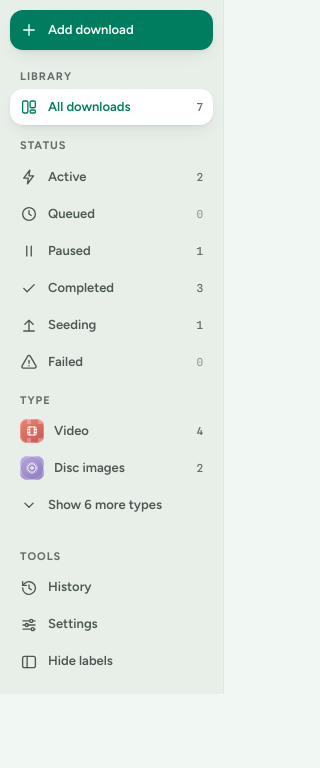
it: Rail, expanded › folds away empty types until asked
Expected: the text "Video" is shown, [54,423,89,438]
Expected: the text "Audio" is not shown
Click the button "Show 6 more types".
click(112, 505)  # box [10,487,213,523]
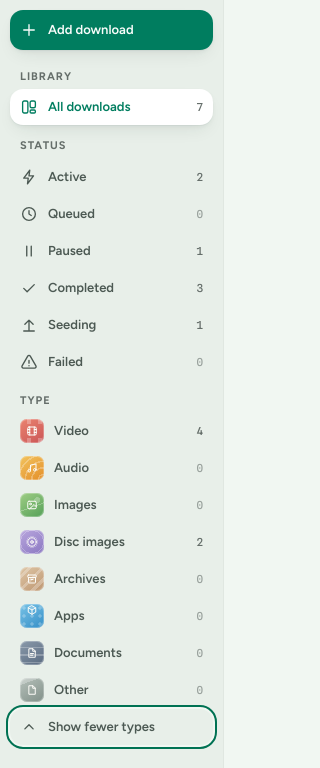
Now the text "Audio" is shown, box [54,460,89,475]
Now the text "Images" is shown, box [54,497,97,512]
Now the text "Archives" is shown, box [54,571,106,586]
